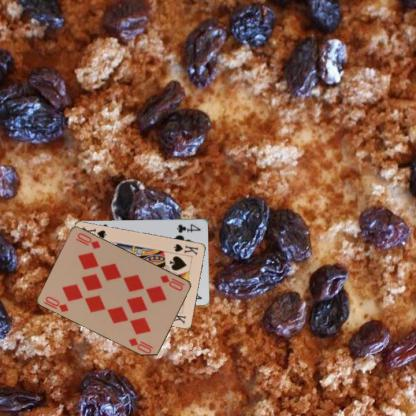10d: (158, 272, 186, 292), (41, 294, 70, 313)
4c: (174, 221, 202, 234)
Ks: (171, 241, 199, 256)
